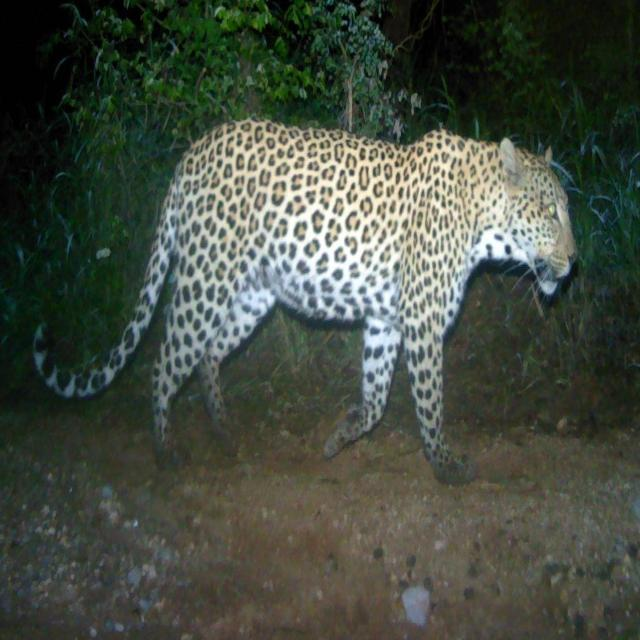Leopard: (38, 111, 578, 476)
